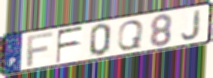0: (88, 22, 113, 58)
8: (149, 12, 174, 48)
F: (55, 25, 85, 65), (26, 30, 54, 67)
J: (180, 8, 203, 42)
Q: (116, 19, 146, 52)
